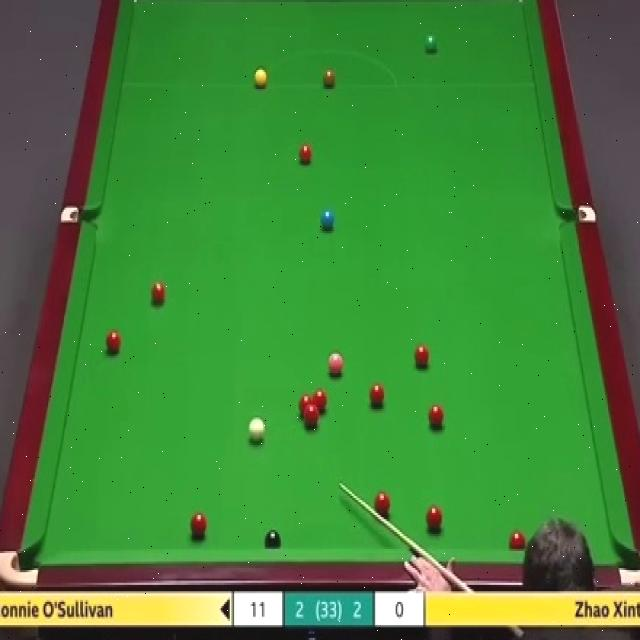black-ball: (264, 529, 283, 551)
blue-ball: (319, 210, 336, 232)
brown-ball: (323, 65, 335, 87)
green-ball: (422, 32, 437, 55)
pink-ball: (327, 353, 345, 379)
red-ball: (366, 380, 384, 408), (189, 511, 207, 539), (150, 278, 167, 307), (373, 492, 391, 519), (414, 342, 431, 370), (424, 506, 442, 532), (428, 404, 442, 433), (298, 394, 313, 420), (297, 142, 313, 166), (106, 330, 121, 355), (509, 528, 526, 550), (313, 390, 327, 414), (305, 408, 320, 428)
white-ball: (249, 417, 265, 448)
yellow-ball: (253, 69, 268, 88)
